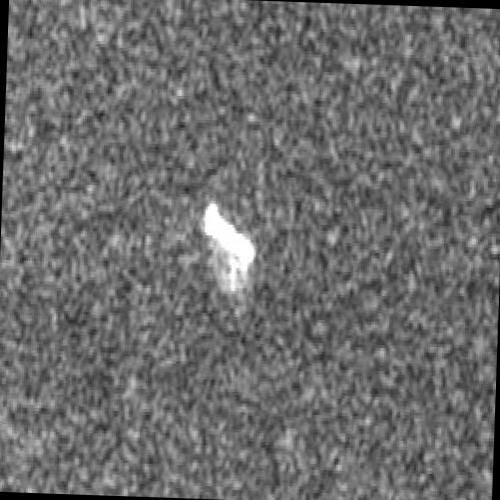ship: (202, 201, 256, 269)
